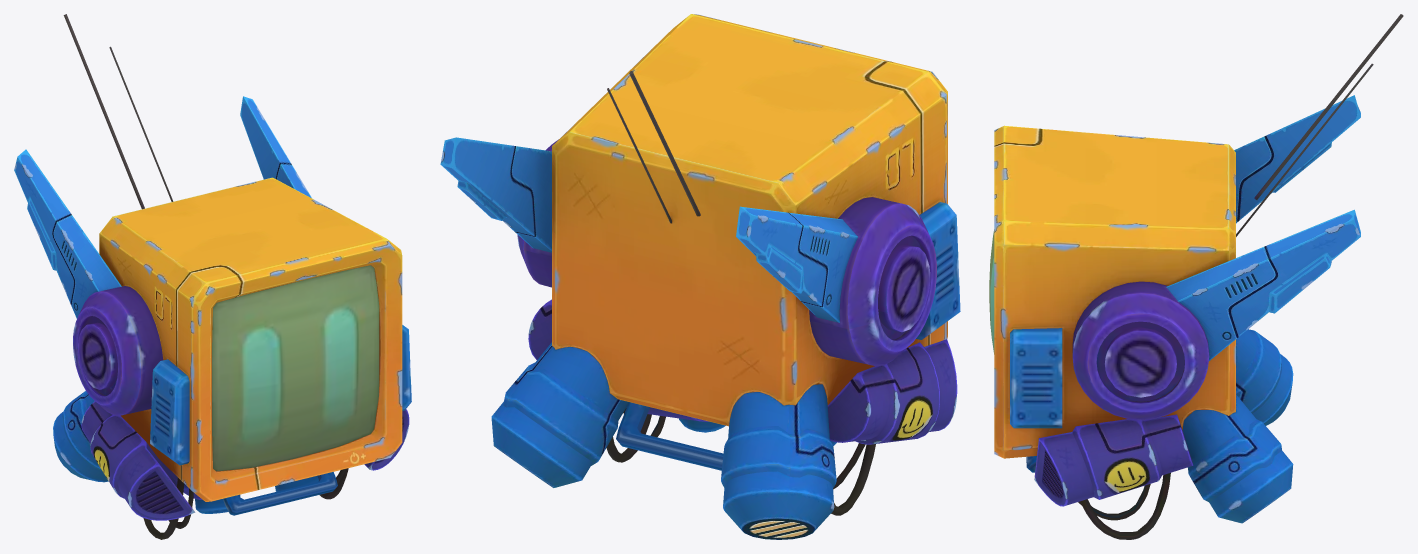
File: flying_robot_07___07.glb
The picture shows the model from 3 angles, left to right: view 1: azimuth 30°, elevation 25°; view 2: azimuth 150°, elevation 25°; view 3: azimuth 270°, elevation 25°; orthographic projection. The views are drawn at different scales.
Visible parts, largest first — view 1: Cube.004_Material.006_0; view 2: Cube.004_Material.006_0; view 3: Cube.004_Material.006_0.
Boxes of the visible parts, box(x1,y1,x2,y2) form: Cube.004_Material.006_0: box(14, 14, 411, 539); Cube.004_Material.006_0: box(440, 14, 960, 539); Cube.004_Material.006_0: box(989, 14, 1403, 539).
Bounding box in the file's own units: 2.9 × 4.14 × 3.4.
Materials: 1 (1 with a texture image).
